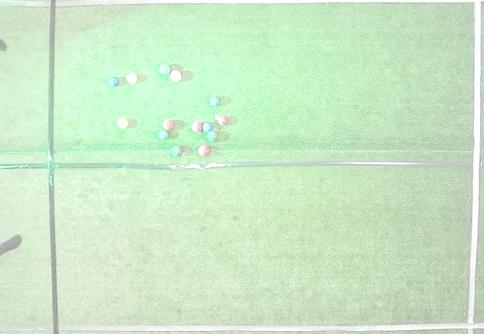blue: (108, 76, 119, 87), (203, 122, 212, 132)
green: (159, 63, 170, 75), (171, 145, 182, 156), (207, 130, 217, 142), (159, 130, 168, 140), (210, 96, 219, 106)
red: (170, 70, 181, 82), (163, 119, 174, 131), (192, 121, 202, 132), (199, 146, 210, 156), (218, 115, 228, 125)
vline: (1, 1, 60, 333), (466, 1, 483, 333)
white: (215, 115, 219, 120)
yellow: (117, 118, 128, 128), (127, 74, 137, 84)
